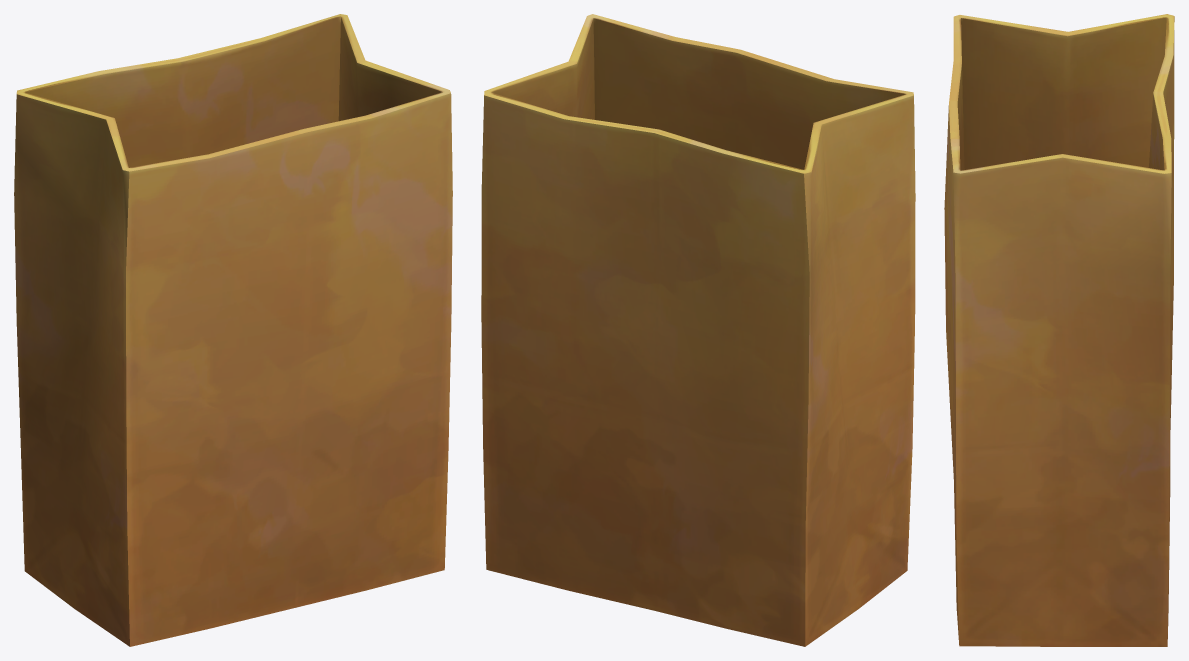
File: SM_FastFoodBagOpen.glb
3 renders of one model, left to right at view 1: azimuth 30°, elevation 25°; view 2: azimuth 150°, elevation 25°; view 3: azimuth 270°, elevation 25°, orthographic.
Visible parts, largest first — view 1: SM_FastFoodBagOpen; view 2: SM_FastFoodBagOpen; view 3: SM_FastFoodBagOpen.
Part boxes in pixels (box(x1,y1,x2,y2)): SM_FastFoodBagOpen: box(14, 14, 452, 646); SM_FastFoodBagOpen: box(481, 14, 915, 646); SM_FastFoodBagOpen: box(944, 14, 1174, 646).
Size of the model in its own units: 0.2889 by 0.4012 by 0.1754.
Materials: 1 (1 with a texture image).
